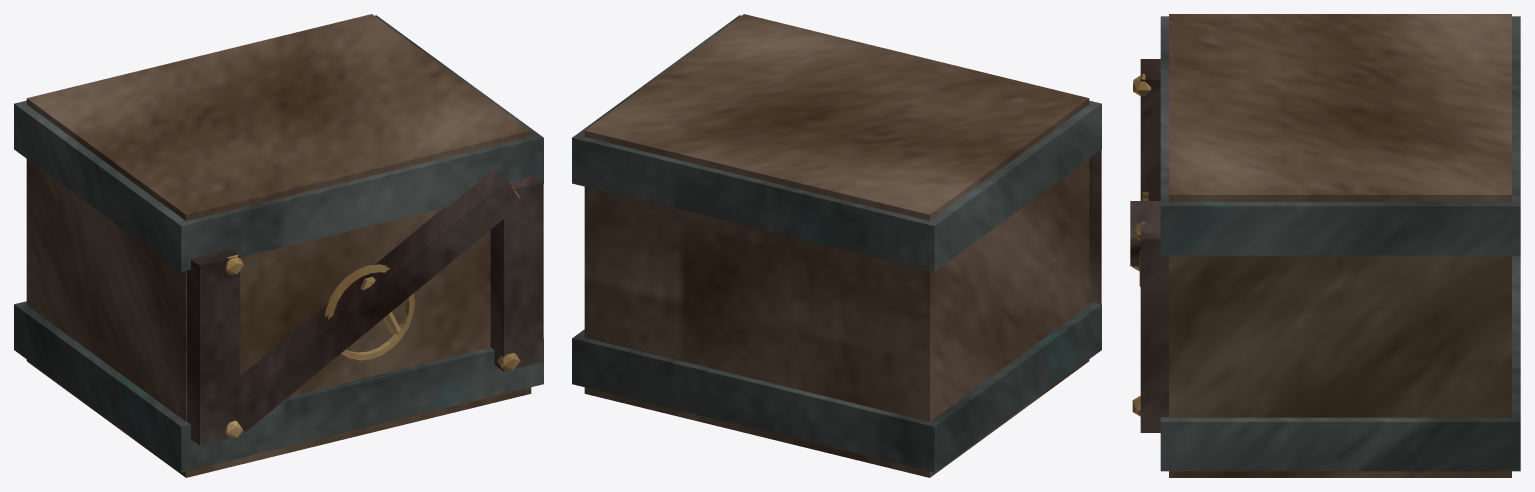
Rendered from 0741_supply_crate_16.glb.
3 renders of one model, left to right at view 1: azimuth 30°, elevation 25°; view 2: azimuth 150°, elevation 25°; view 3: azimuth 270°, elevation 25°, orthographic. The views are drawn at different scales.
Parts seen in each view (by area): view 1: wood, iron, wood_dark, brass; view 2: wood, iron, wood_dark; view 3: wood, iron, wood_dark, brass.
Boxes of the visible parts, box(x1,y1,x2,y2) form: wood: box(26, 14, 531, 477); iron: box(14, 15, 543, 472); wood_dark: box(187, 170, 543, 445); brass: box(225, 187, 520, 438); wood: box(584, 14, 1089, 477); iron: box(572, 15, 1101, 472); wood_dark: box(1089, 150, 1101, 303); wood: box(1169, 14, 1511, 477); iron: box(1160, 16, 1520, 471); wood_dark: box(1130, 59, 1168, 432); brass: box(1132, 73, 1151, 416).
Bounding box in the file's own units: 0.9122 × 0.6325 × 0.7908.
4 materials, 4 textured.
